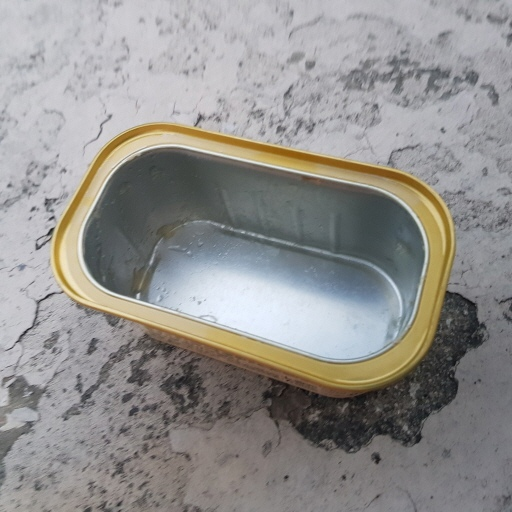Metal_2: (52, 119, 457, 399)
